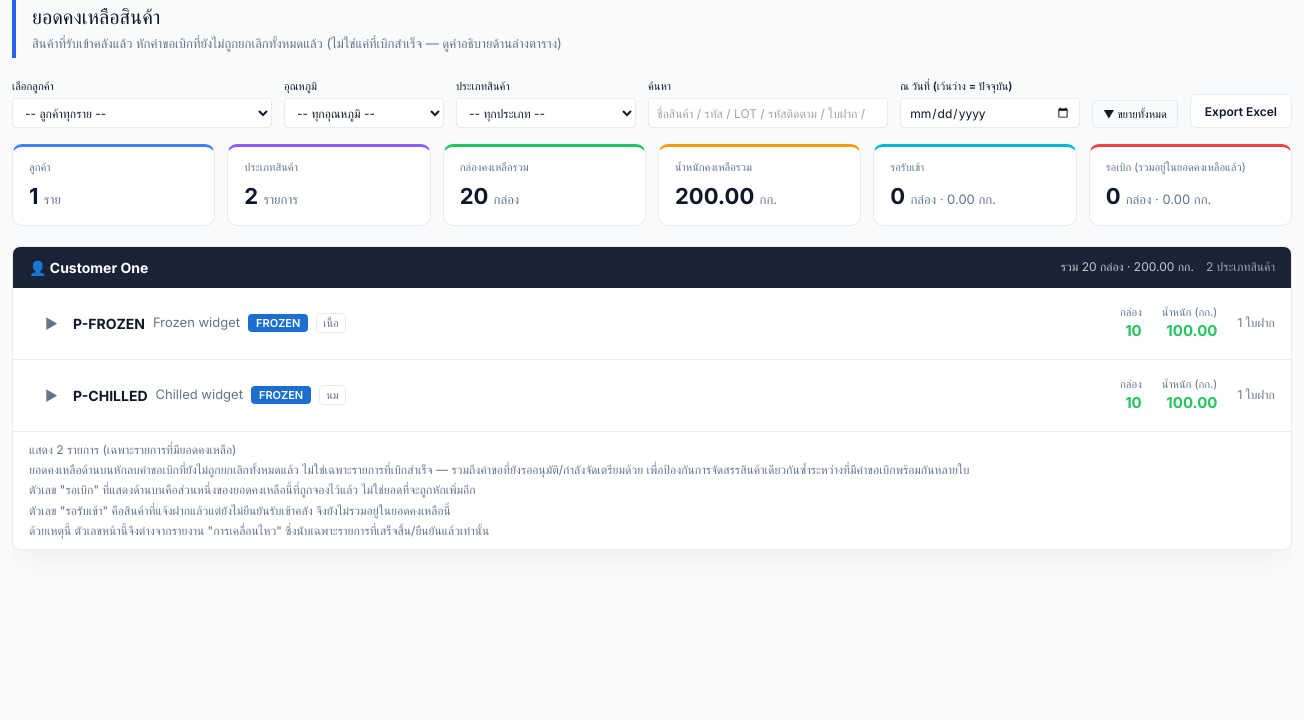
InventoryBalancePage product category filter › filters rows by the selected catalog category and clears via the reset button
Expected: the text "Frozen widget" is shown, [153,313,240,333]
Expected: the text "Chilled widget" is shown, [156,385,243,405]
Select "เนื้อ" in the dropdown labelled "ประเภทสินค้า": (546, 113) [456,98,636,128]
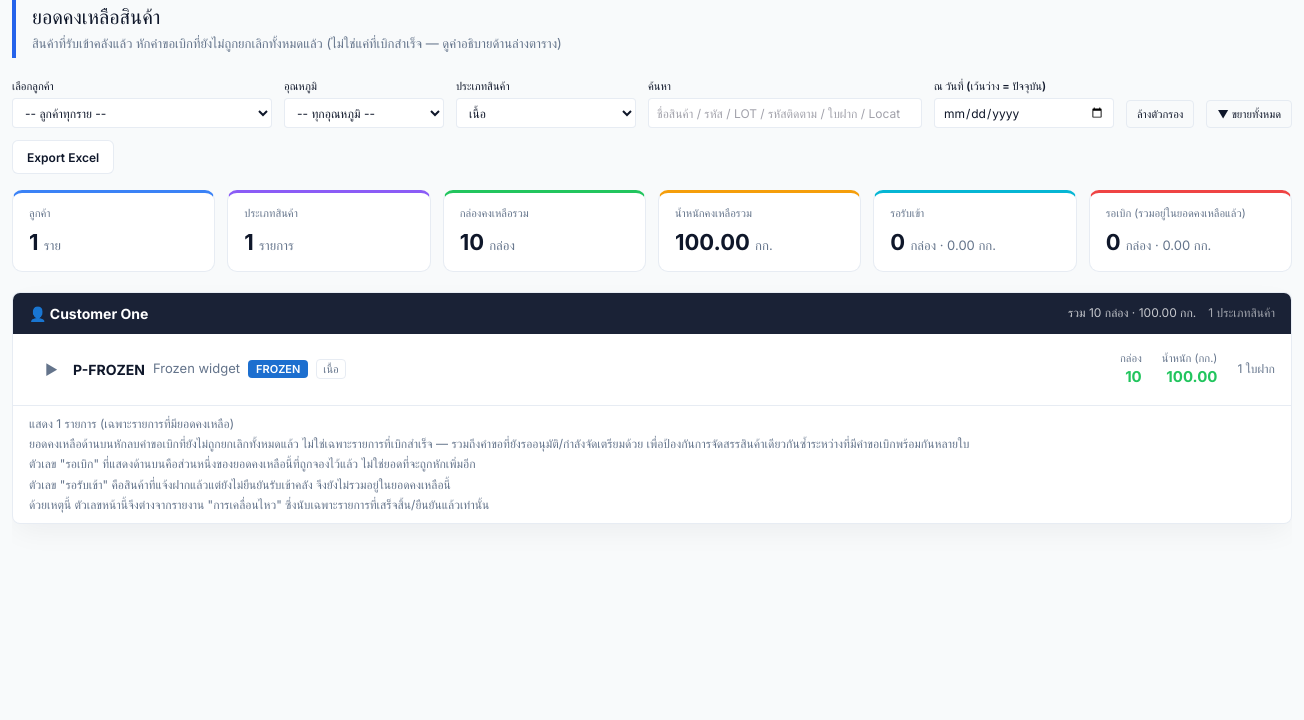
Expected: the text "Frozen widget" is shown, [153,359,240,379]
Result: the button "Chilled widget" is gone
Click the button "ล้างตัวกรอง": (1160, 114) [1126,100,1194,128]
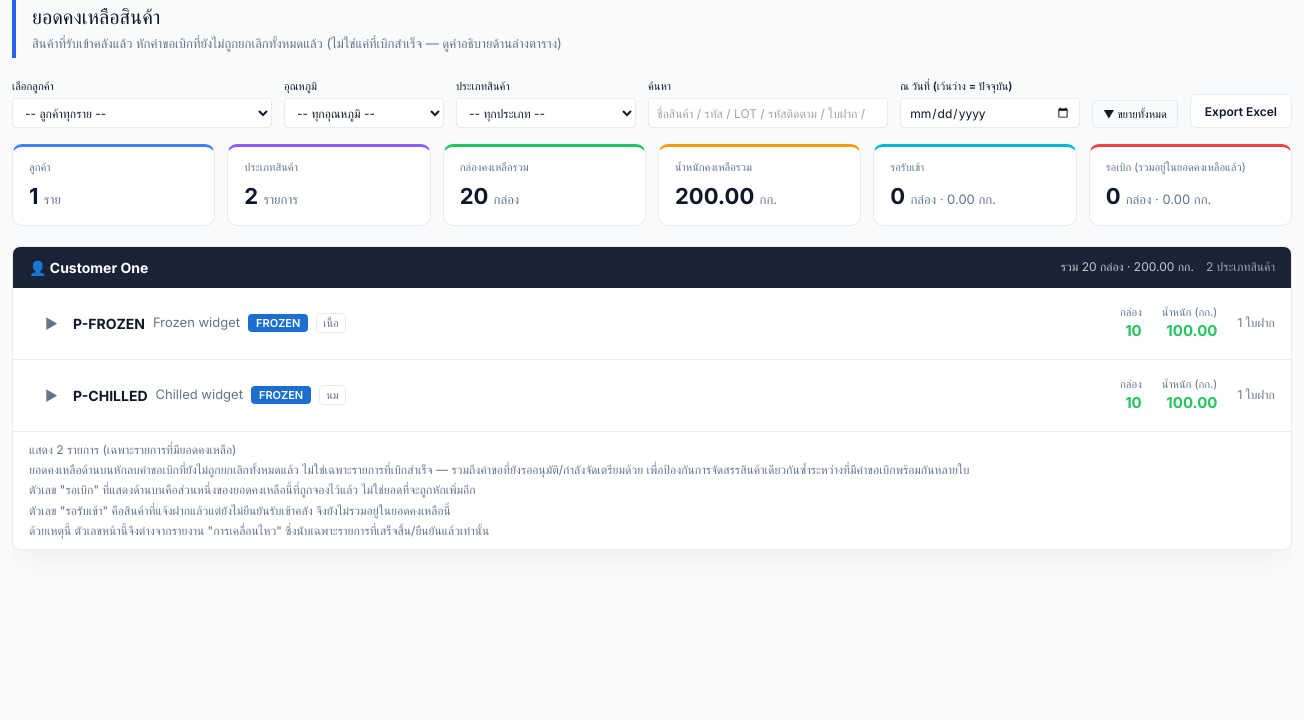
Result: the text "Chilled widget" is shown at [156,385,243,405]
